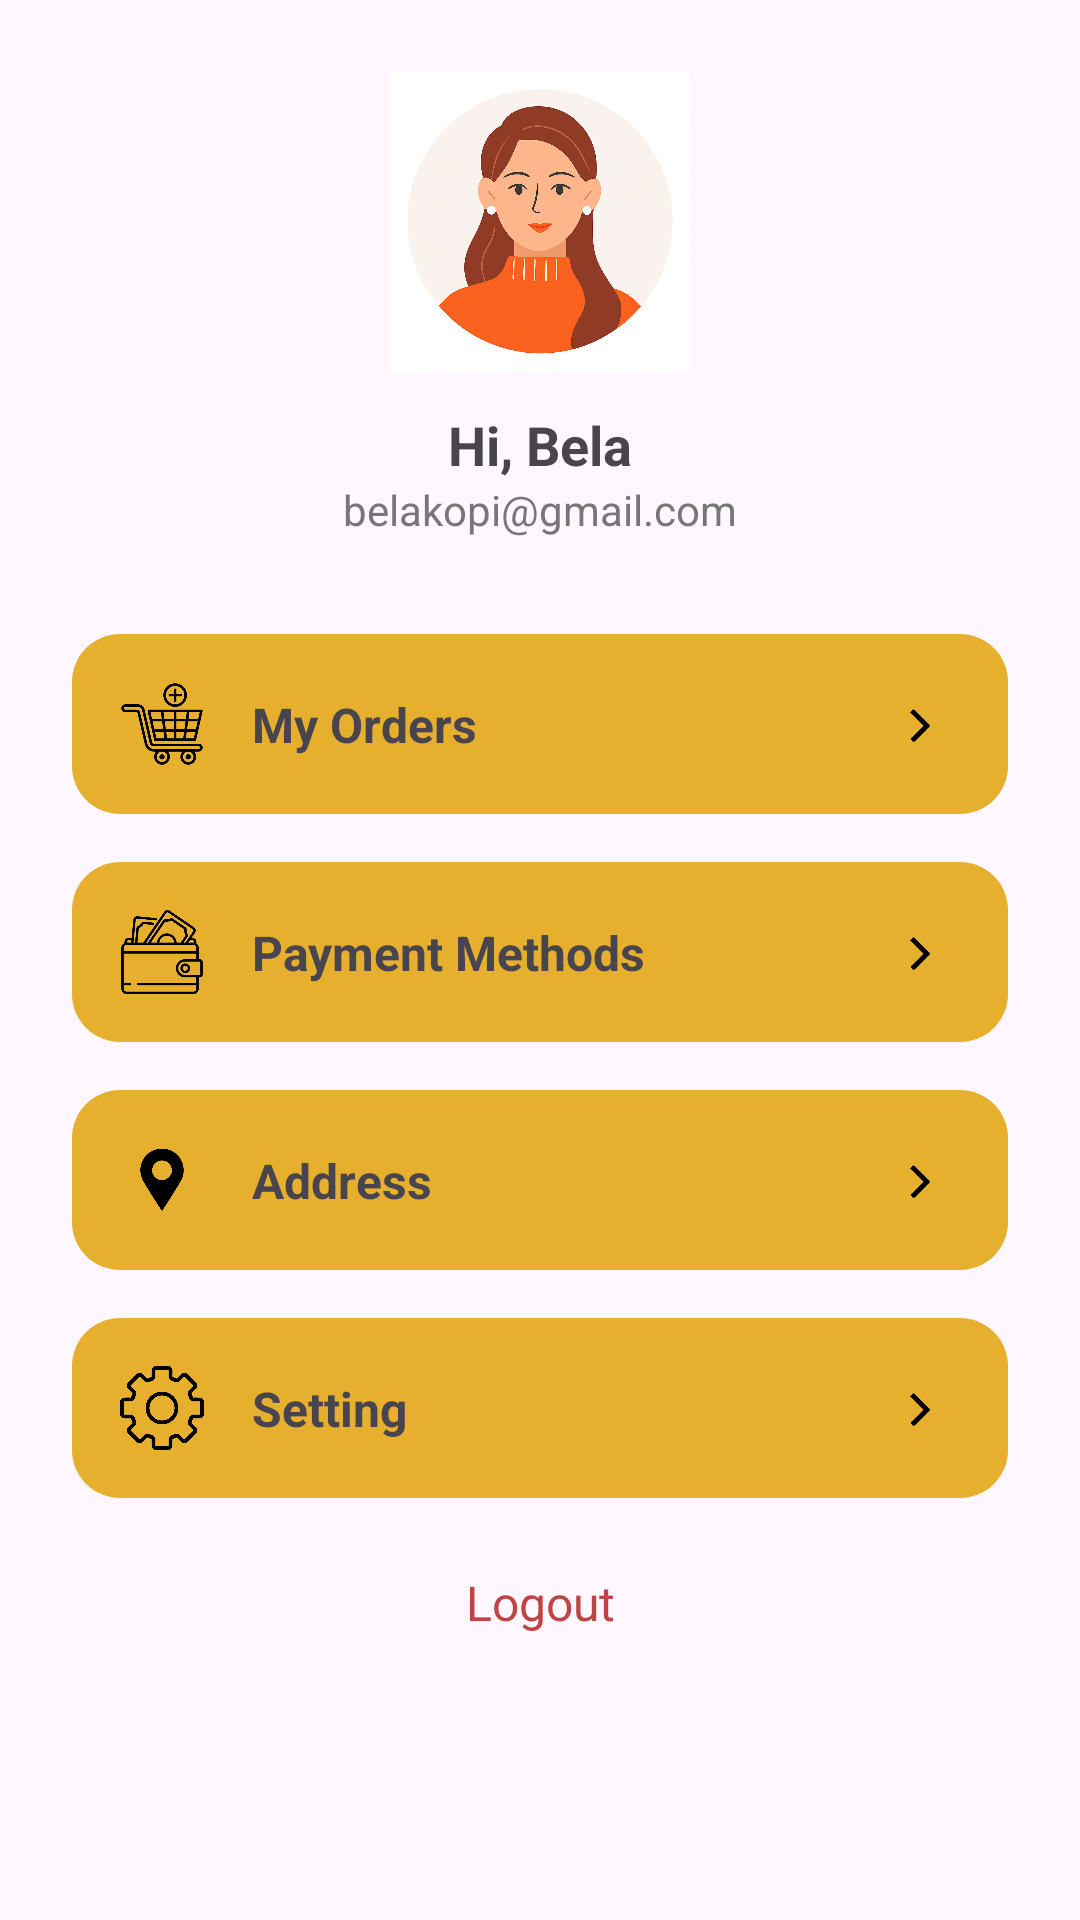

Icon bounding boxes for this 1080px×1920px phone screenshot, format (x1, y1, x2, y2):
chevron right: (910, 709, 930, 742), (910, 937, 930, 970), (910, 1165, 930, 1198), (910, 1393, 930, 1426)
profil: (439, 106, 641, 354)
